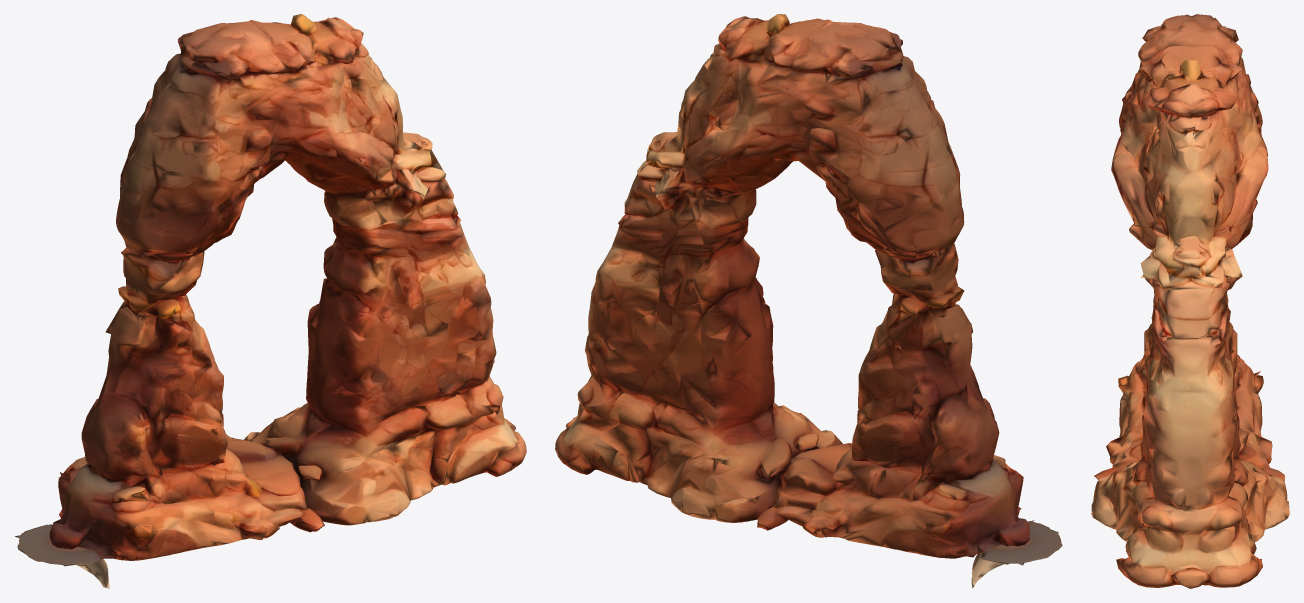
The model's file is sandstone-arch.glb.
3 views of the same model, side by side, from view 1: azimuth 30°, elevation 25°; view 2: azimuth 150°, elevation 25°; view 3: azimuth 270°, elevation 25° (orthographic). The views are drawn at different scales.
Visible parts, largest first — view 1: tripo_node_5da27c46-1894-4487-8e64-ebaad837d0c1; view 2: tripo_node_5da27c46-1894-4487-8e64-ebaad837d0c1; view 3: tripo_node_5da27c46-1894-4487-8e64-ebaad837d0c1.
Boxes of the visible parts, bbox=[...] form: tripo_node_5da27c46-1894-4487-8e64-ebaad837d0c1: bbox=[15, 14, 526, 588]; tripo_node_5da27c46-1894-4487-8e64-ebaad837d0c1: bbox=[555, 14, 1062, 588]; tripo_node_5da27c46-1894-4487-8e64-ebaad837d0c1: bbox=[1091, 14, 1289, 588].
Size of the model in its own units: 0.9684 by 0.9777 by 0.3704.
1 material, 1 textured.
